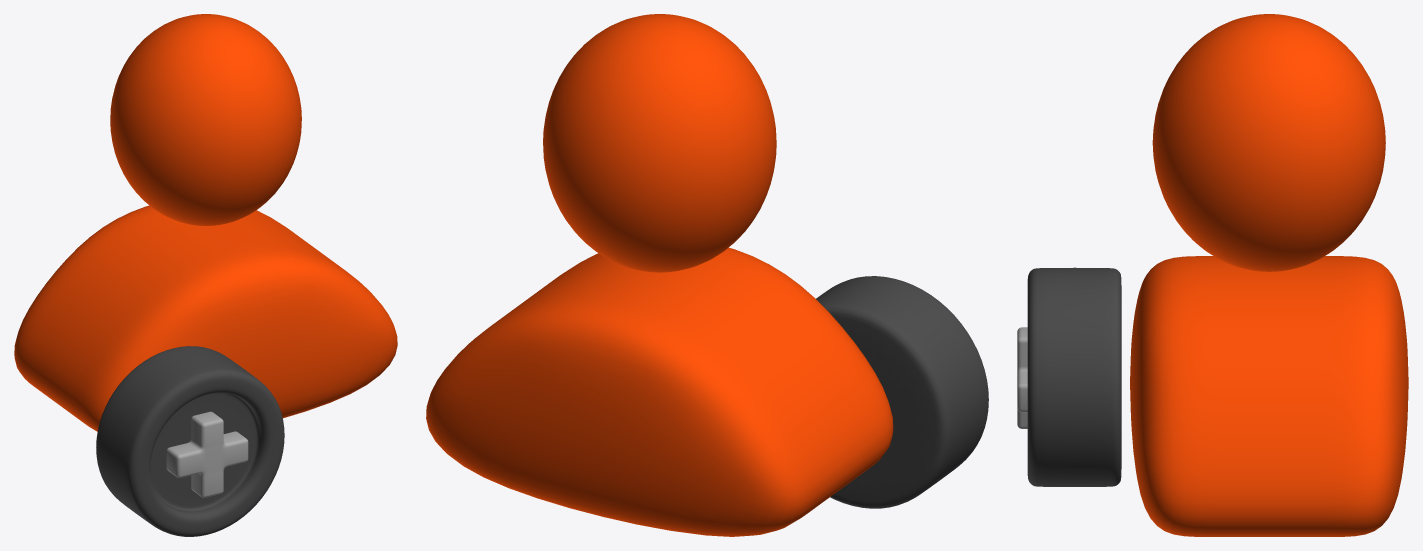
The model's file is add-user-animated-3d-icon-849785049067.glb.
3 renders of one model, left to right at view 1: azimuth 30°, elevation 25°; view 2: azimuth 150°, elevation 25°; view 3: azimuth 270°, elevation 25°, orthographic. The views are drawn at different scales.
Visible parts, largest first — view 1: User.001, Circle, Add; view 2: User.001, Circle; view 3: User.001, Circle, Add.
Part boxes in pixels (x1=…): User.001: x1=14, y1=14, x2=397, y2=431; Circle: x1=96, y1=346, x2=284, y2=536; Add: x1=166, y1=411, x2=248, y2=497; User.001: x1=426, y1=14, x2=893, y2=536; Circle: x1=816, y1=276, x2=988, y2=508; User.001: x1=1130, y1=14, x2=1408, y2=536; Circle: x1=1027, y1=267, x2=1121, y2=486; Add: x1=1017, y1=327, x2=1027, y2=428.
Bounding box in the file's own units: 2.04 × 2.5 × 1.73.
